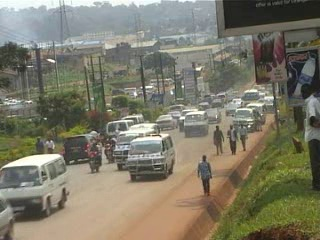Car: (61, 132, 100, 165), (0, 193, 17, 239), (178, 109, 202, 131), (154, 112, 177, 132), (203, 108, 223, 125), (223, 102, 239, 116), (168, 109, 183, 122), (196, 100, 212, 112), (212, 97, 226, 109), (232, 95, 244, 108)
Motorcycle: (86, 146, 101, 174), (101, 140, 115, 163)
